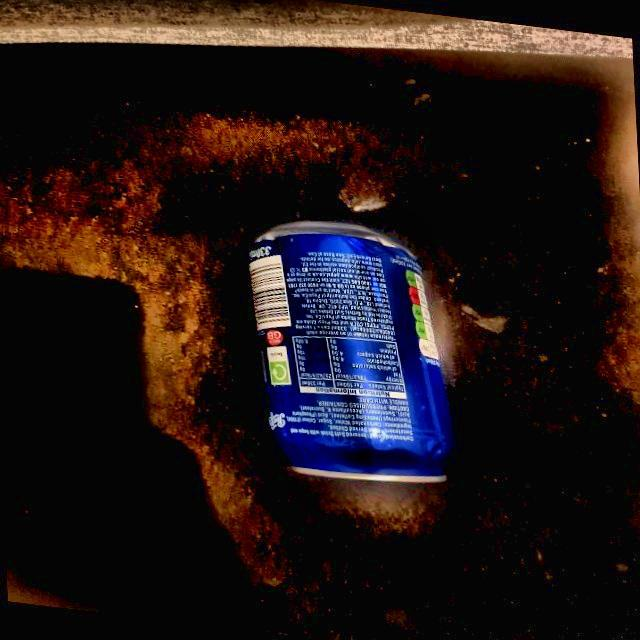pepsi-can: (255, 220, 453, 486)
